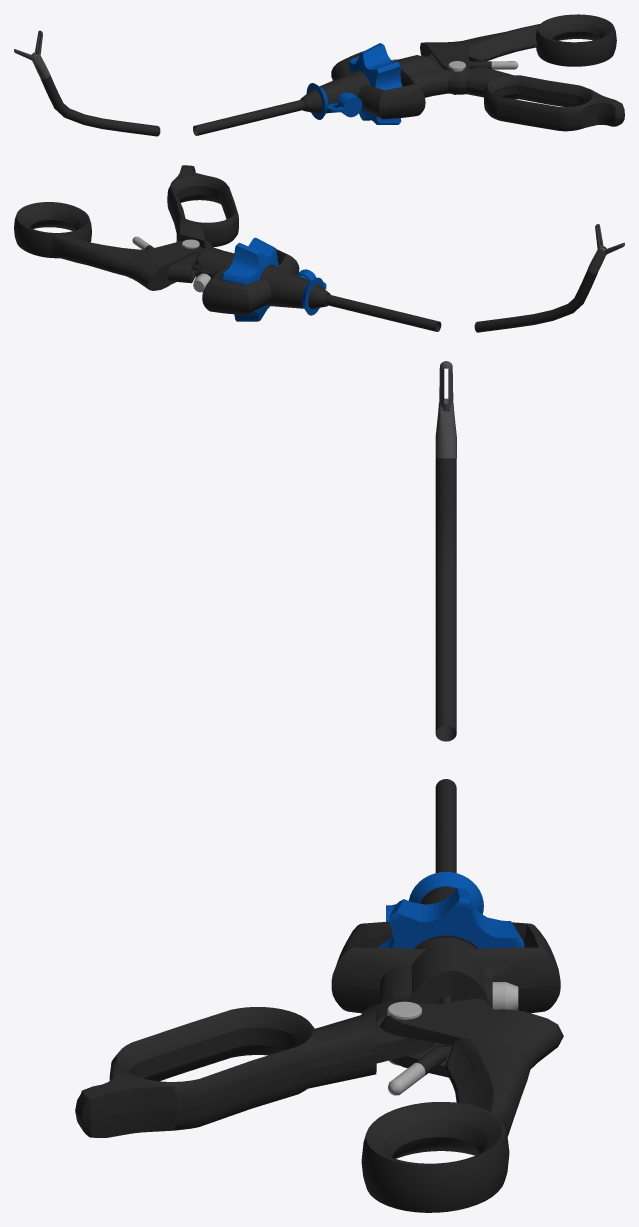
The model's file is handler.fbx.
The picture shows the model from 3 angles, top to bottom: view 1: azimuth 30°, elevation 25°; view 2: azimuth 150°, elevation 25°; view 3: azimuth 270°, elevation 25°; orthographic projection. The views are drawn at different scales.
Parts seen in each view (by area): view 1: manche, gachette, molette, tige.001, tige, pince_base; view 2: manche, gachette, molette, tige.001, tige, pince_base; view 3: manche, gachette, tige.001, molette, tige.
Part boxes in pixels (left/top/right/bottom): manche: left=300, top=51, right=624, bottom=131; gachette: left=420, top=14, right=616, bottom=71; molette: left=348, top=43, right=402, bottom=124; tige.001: left=40, top=74, right=160, bottom=136; tige: left=193, top=99, right=305, bottom=135; pince_base: left=31, top=52, right=49, bottom=79; manche: left=167, top=165, right=330, bottom=315; gachette: left=14, top=202, right=203, bottom=290; molette: left=222, top=237, right=278, bottom=321; tige.001: left=474, top=269, right=597, bottom=332; tige: left=325, top=294, right=441, bottom=331; pince_base: left=588, top=246, right=606, bottom=273; manche: left=75, top=872, right=560, bottom=1137; gachette: left=361, top=998, right=563, bottom=1212; tige.001: left=435, top=458, right=456, bottom=741; molette: left=377, top=888, right=524, bottom=948; tige: left=435, top=779, right=456, bottom=872.
Size of the model in its own units: 3224 by 913 by 1149.
